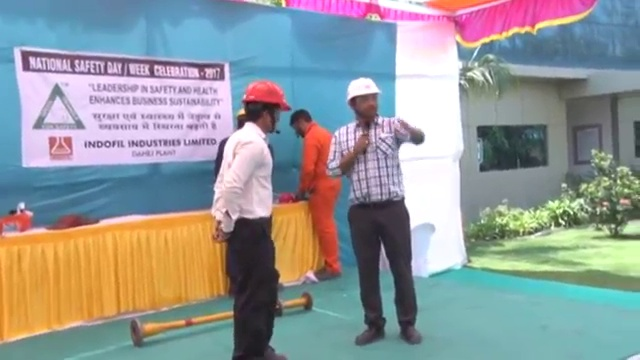helmet: (241, 79, 293, 111), (342, 76, 384, 106)
helmet_off: (287, 107, 316, 137)
helmet_on: (241, 80, 292, 136), (341, 75, 385, 123)
person: (328, 75, 428, 346), (212, 80, 290, 360), (287, 107, 343, 278)
